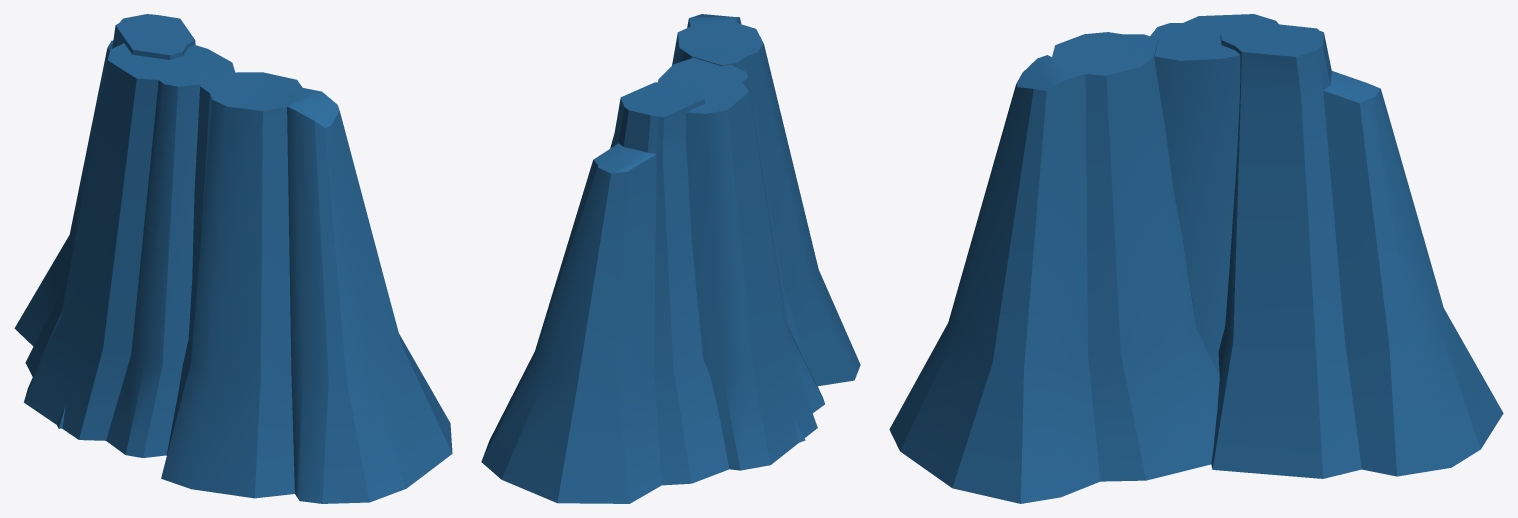
File: mdl_iceCliff03_2.fbx
3 views of the same model, side by side, from view 1: azimuth 30°, elevation 25°; view 2: azimuth 150°, elevation 25°; view 3: azimuth 270°, elevation 25° (orthographic). The views are drawn at different scales.
Parts seen in each view (by area): view 1: mdl_iceCliff03_3; view 2: mdl_iceCliff03_3; view 3: mdl_iceCliff03_3.
Boxes of the visible parts, x1,y1,x2,y2 form: mdl_iceCliff03_3: [14, 14, 452, 503]; mdl_iceCliff03_3: [481, 14, 860, 503]; mdl_iceCliff03_3: [889, 14, 1503, 503].
Bounding box in the file's own units: 286 × 317 × 472.
Materials: 1 (1 with a texture image).
